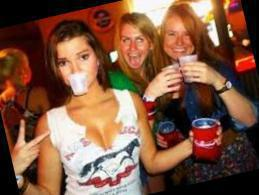Drunk: (54, 41, 98, 83), (118, 26, 148, 67), (166, 19, 193, 57)
